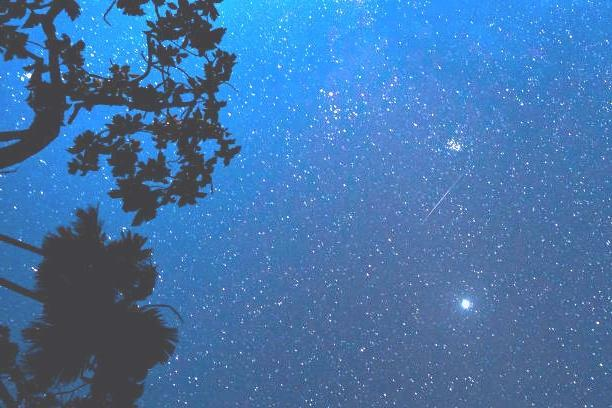meteorite: (413, 172, 459, 230)
